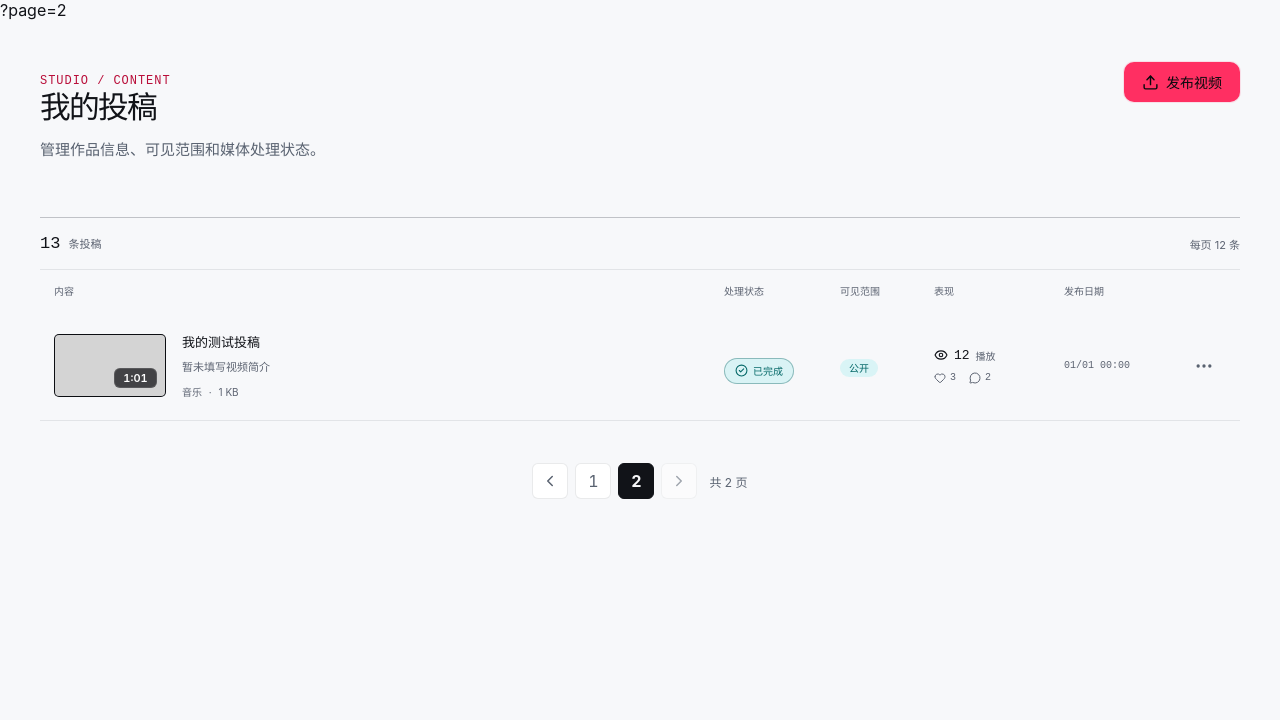
Test case: MyVideosPage workflow › deleting the last row on page 2 returns to page 1
This screenshot has width=1280, height=720.
Click the button named "我的测试投稿的操作菜单".
click(1204, 366)  # box [1182,344,1226,388]
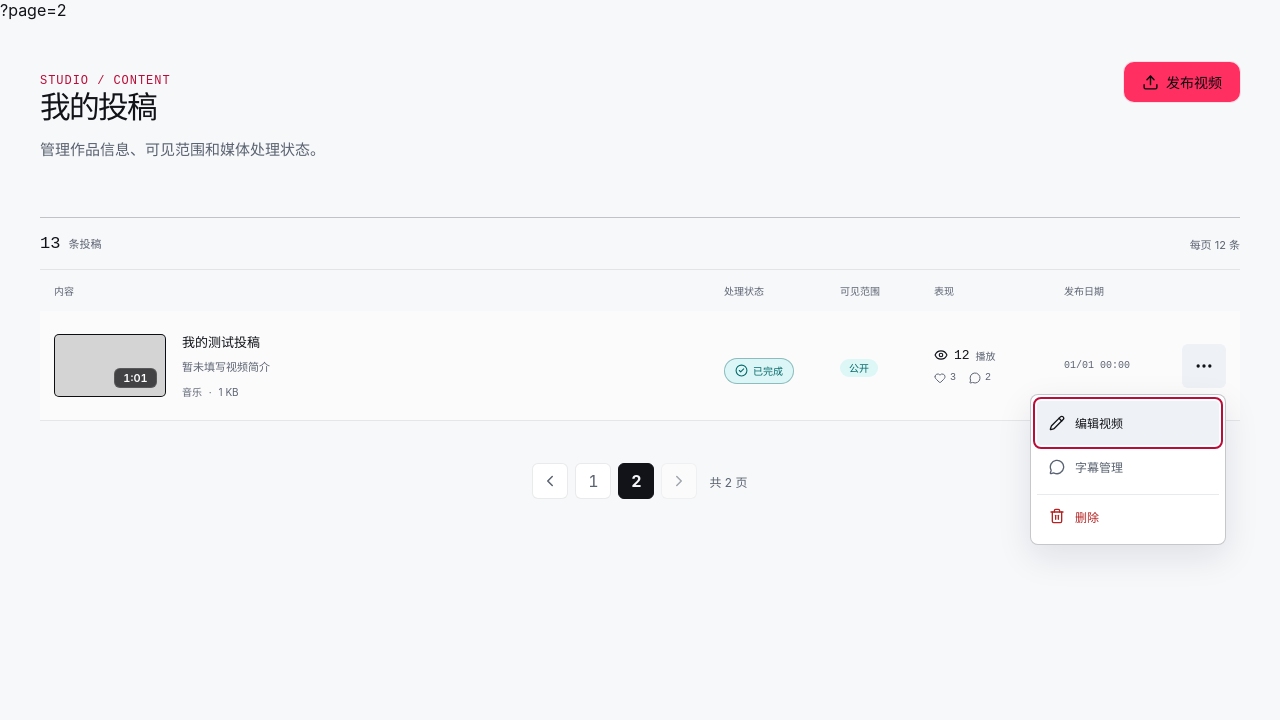
Click the menu item "删除".
click(1128, 516)  # box [1037,494,1219,538]
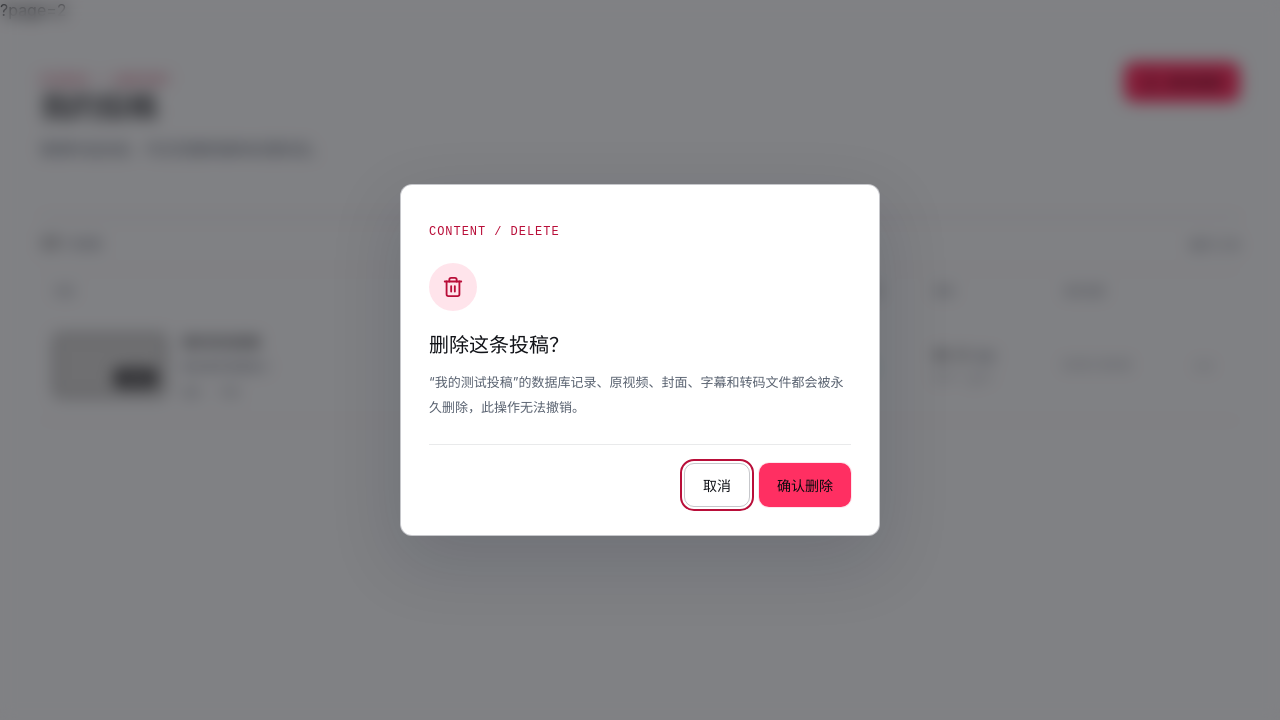
Click the button "确认删除".
click(805, 485)  # box [759,463,851,507]
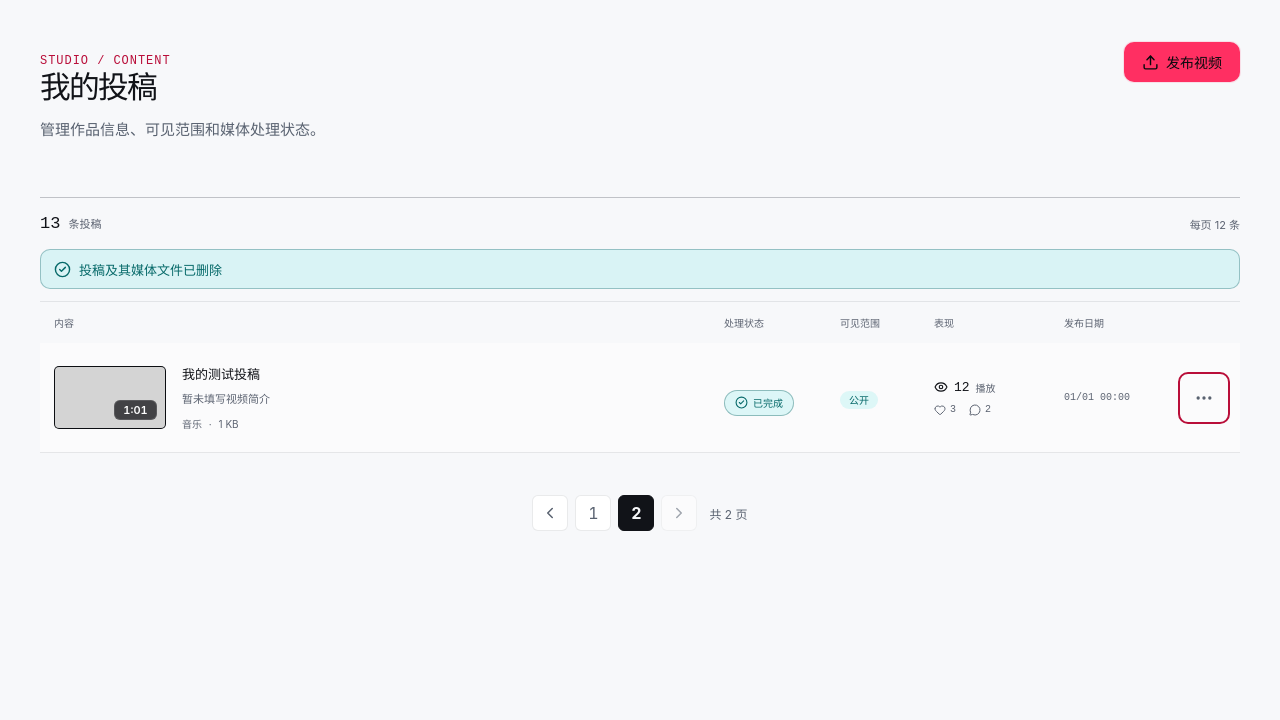
Check: the text "投稿及其媒体文件已删除" is shown, box [40,249,1240,289]
